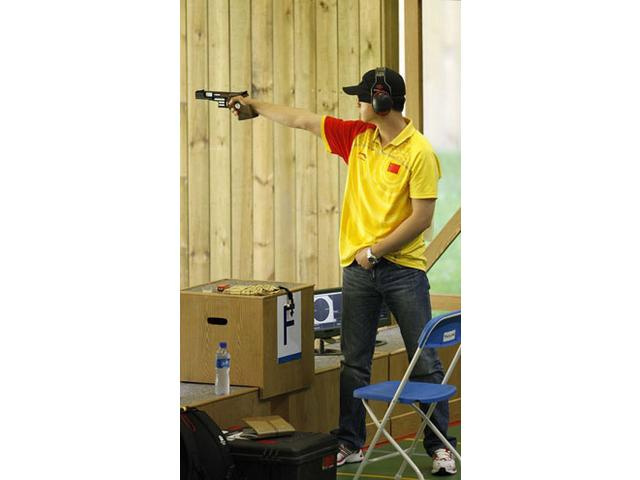pistol: (193, 89, 260, 122)
